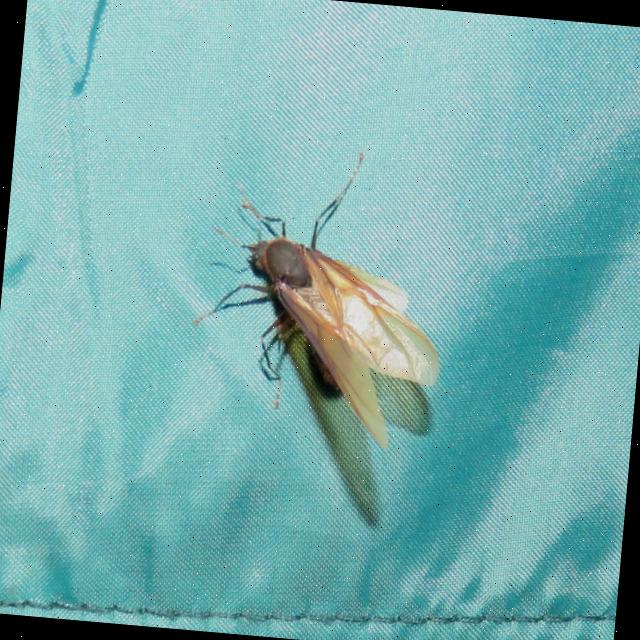Alive-Male-Alate: (182, 137, 458, 454)
